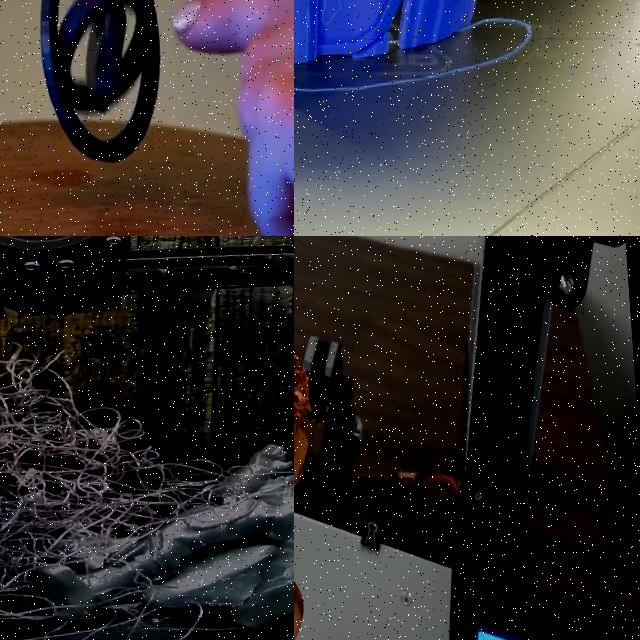spaghetti: (0, 318, 218, 640)
